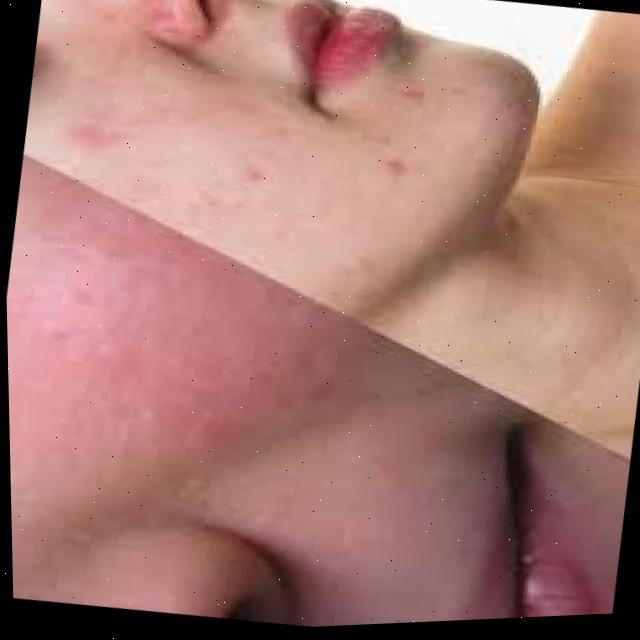Rosacea: (5, 172, 368, 463), (57, 109, 129, 163), (87, 0, 186, 38)
